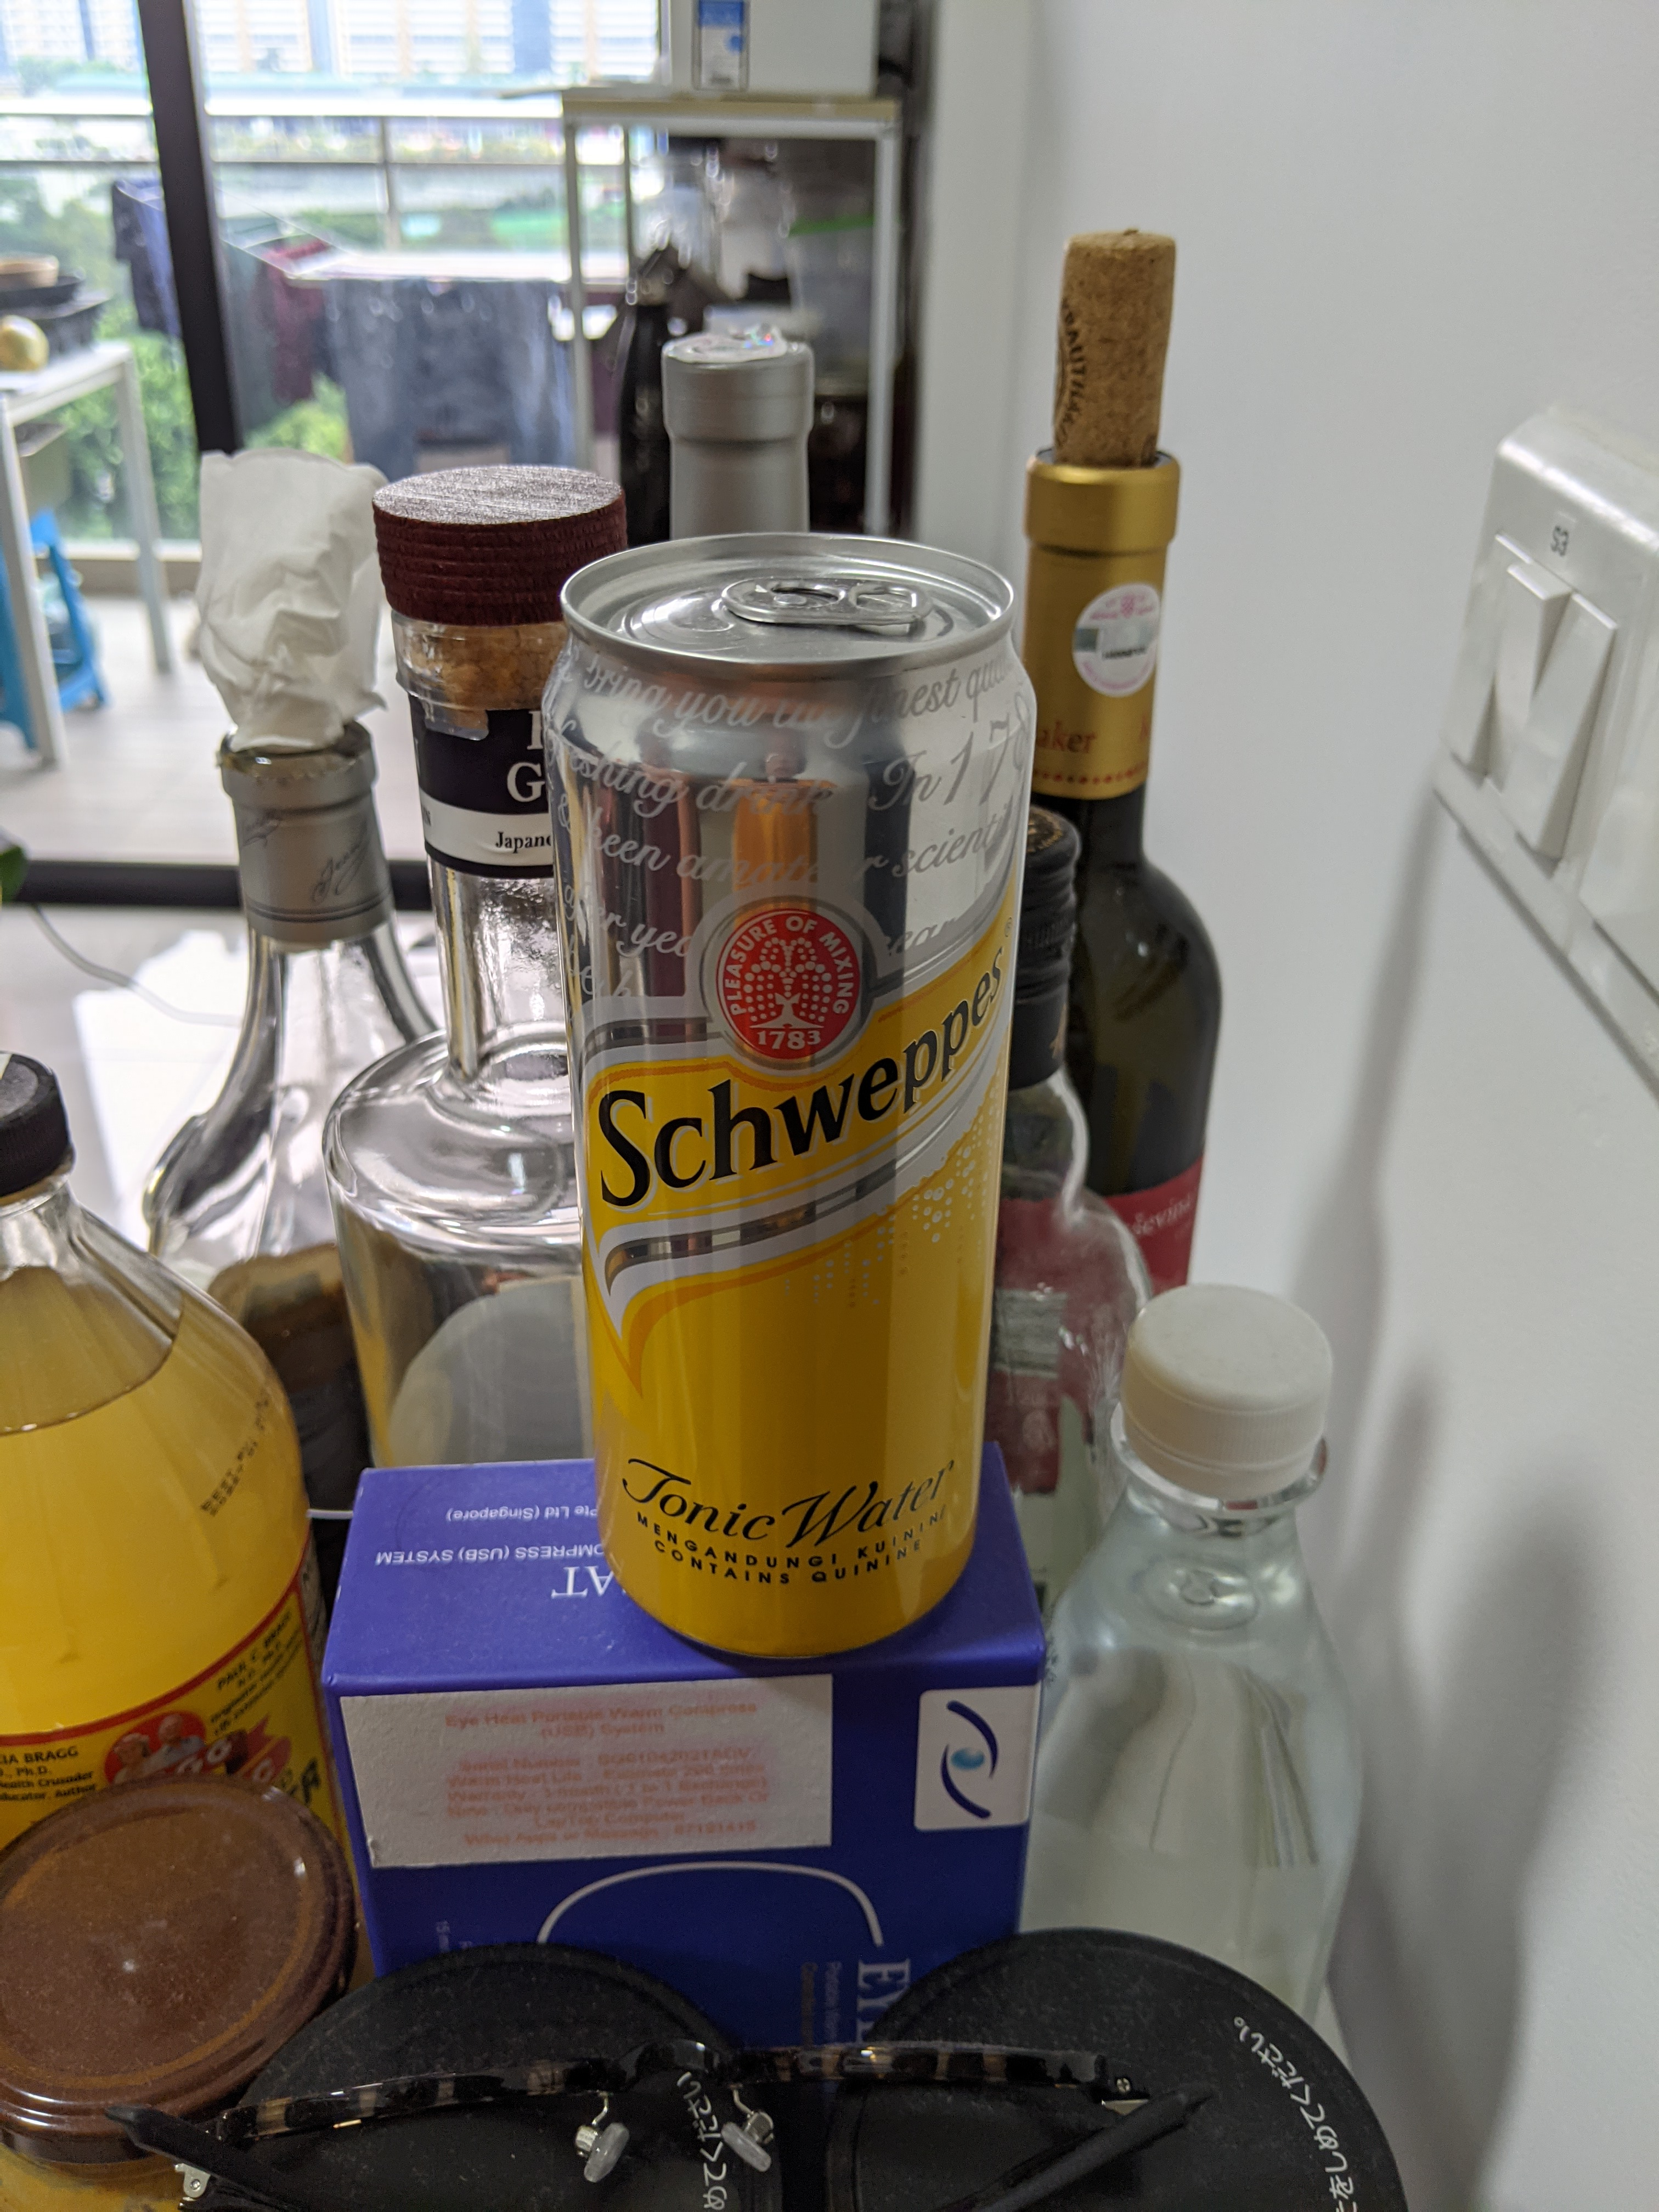schweppes drink can tonic water: (518, 507, 1063, 1702)
